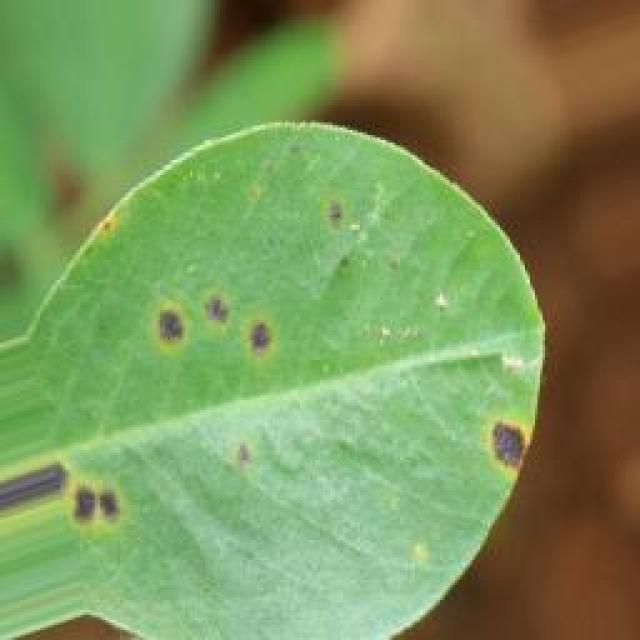Sigatoka: (134, 260, 276, 376), (46, 464, 154, 556), (303, 173, 369, 256), (201, 431, 280, 500), (476, 402, 538, 488), (74, 200, 142, 249)
